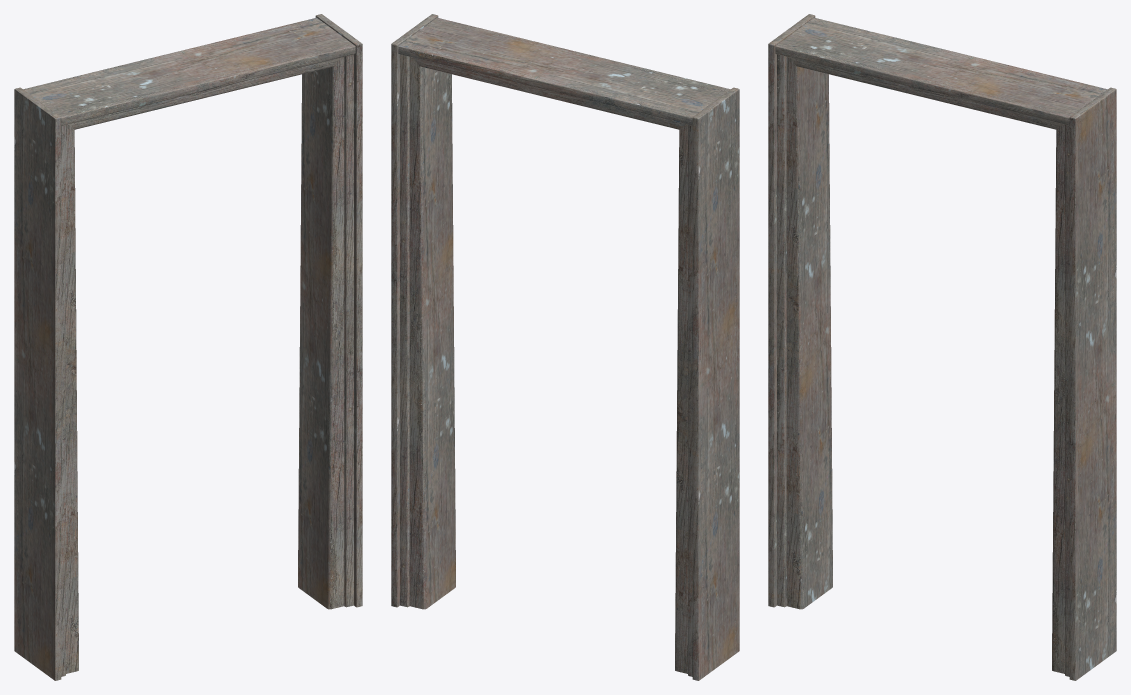
The model's file is WoodenDoorwayThick.FBX.
3 renders of one model, left to right at view 1: azimuth 30°, elevation 25°; view 2: azimuth 150°, elevation 25°; view 3: azimuth 330°, elevation 25°, orthographic.
Parts seen in each view (by area): view 1: Wooden_Doorway_thick; view 2: Wooden_Doorway_thick; view 3: Wooden_Doorway_thick.
Part boxes in pixels (left/top/right/bottom): Wooden_Doorway_thick: left=14, top=14, right=362, bottom=680; Wooden_Doorway_thick: left=391, top=14, right=739, bottom=680; Wooden_Doorway_thick: left=768, top=14, right=1116, bottom=680.
Bounding box in the file's own units: 38.98 × 68.11 × 9.
